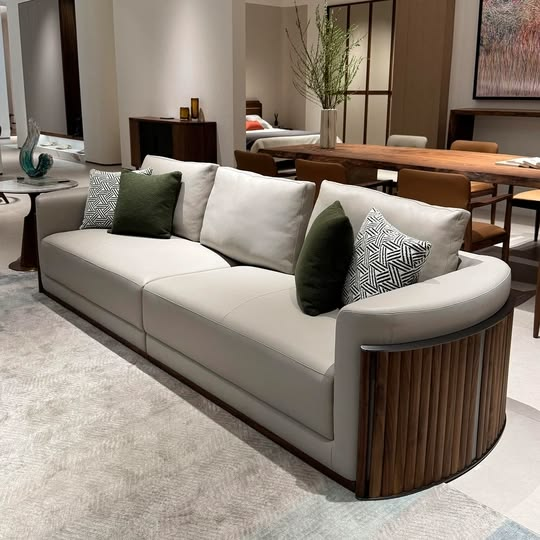3seatersofa: (36, 155, 512, 498)
backrest: (143, 155, 469, 278)
base: (45, 277, 332, 464)
leftarmrest: (332, 252, 510, 476), (349, 302, 512, 498)
leg: (38, 272, 353, 490)
pillow: (295, 201, 431, 315), (80, 169, 181, 237)
rightarmrest: (38, 189, 84, 242)
seat: (40, 230, 336, 436)
